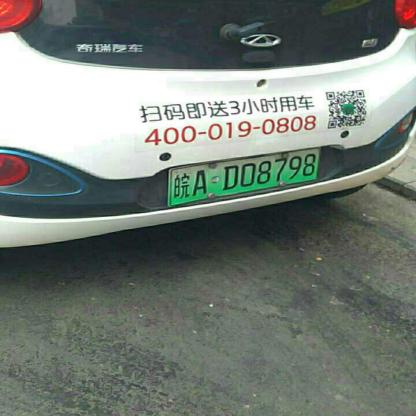lp: (170, 149, 318, 206)
